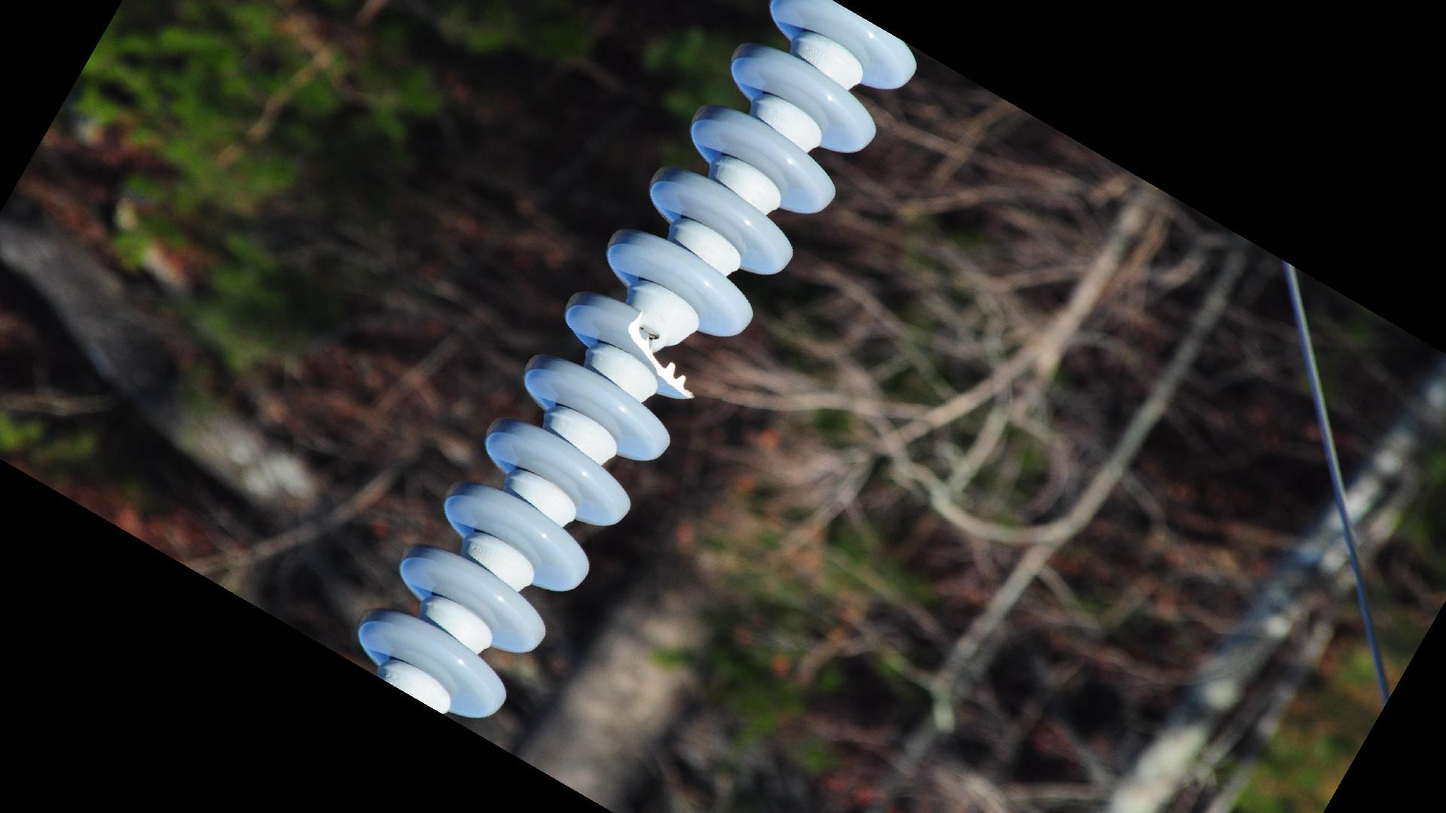insulator: (342, 1, 922, 727)
insulator_breakage: (621, 301, 701, 406)
